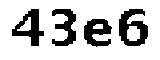3: (46, 6, 79, 49)
4: (7, 2, 47, 55)
6: (118, 3, 152, 51)
e: (76, 18, 117, 52)
